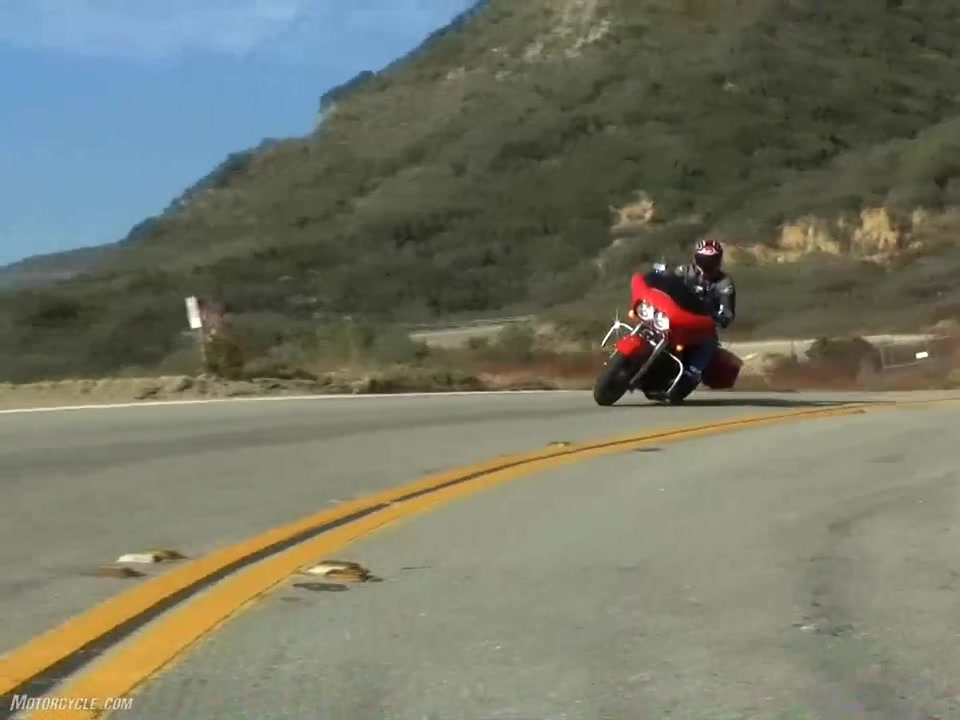motorbike: (587, 265, 733, 407)
